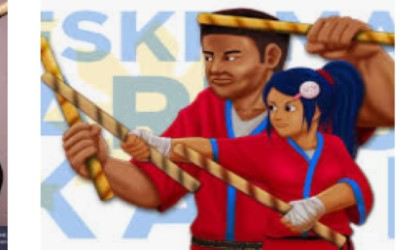baston_e: (56, 73, 169, 190), (186, 142, 325, 237), (212, 8, 382, 55), (39, 65, 107, 182)
baston_v: (32, 28, 58, 64), (183, 165, 200, 199), (327, 224, 350, 246), (93, 189, 124, 205), (168, 134, 185, 162), (34, 67, 54, 90), (384, 26, 402, 51), (191, 6, 208, 27)
